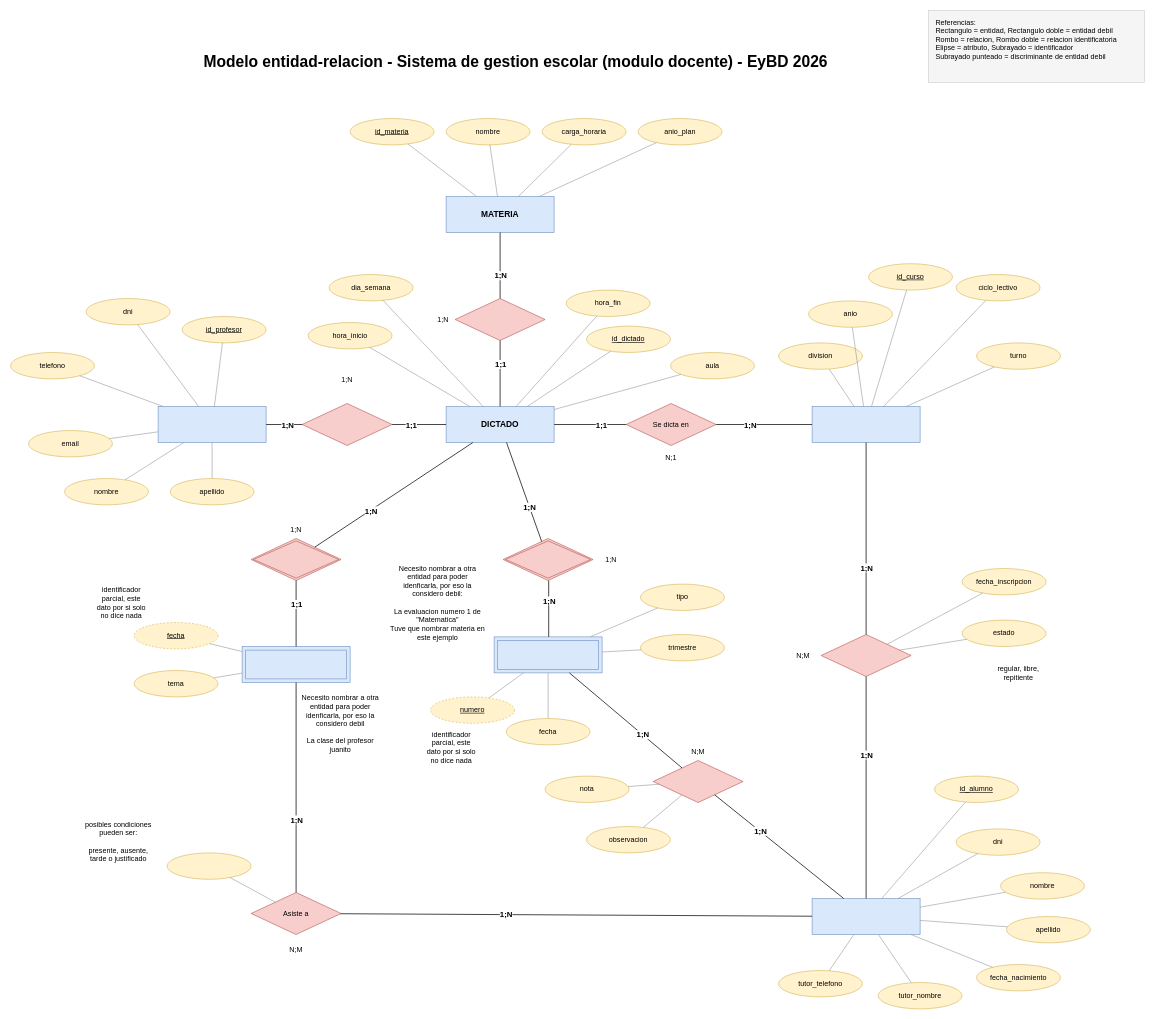
This 1155x1019 diagram has some shape labels left out. The box of each missing label's shape, as (x1, y1, x2, y2) in pixels:
A cargo de: (302, 403, 392, 446)
ALUMNO: (812, 898, 920, 934)
CLASE: (242, 646, 350, 682)
condicion: (166, 852, 251, 879)
Corresponde a: (454, 298, 545, 340)
Cursa: (820, 634, 911, 676)
CURSO: (812, 406, 920, 442)
EVALUACION: (494, 636, 602, 673)
Genera: (250, 538, 341, 580)
Incluye: (502, 538, 593, 580)
PROFESOR: (158, 406, 266, 442)
Rinde: (652, 760, 743, 802)
